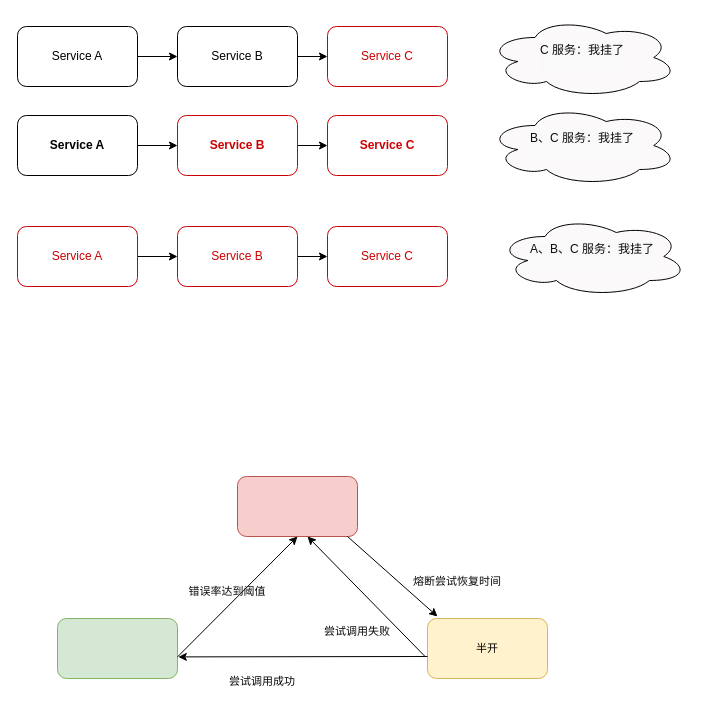
Image size: 705x714. Some labels were removed from this diagram. The shapes that lost their labels are listed below. From the top down, each one's centre as x and y in pixels, then its label:
At (x=297, y=506): "打开".
At (x=117, y=648): "关闭".
